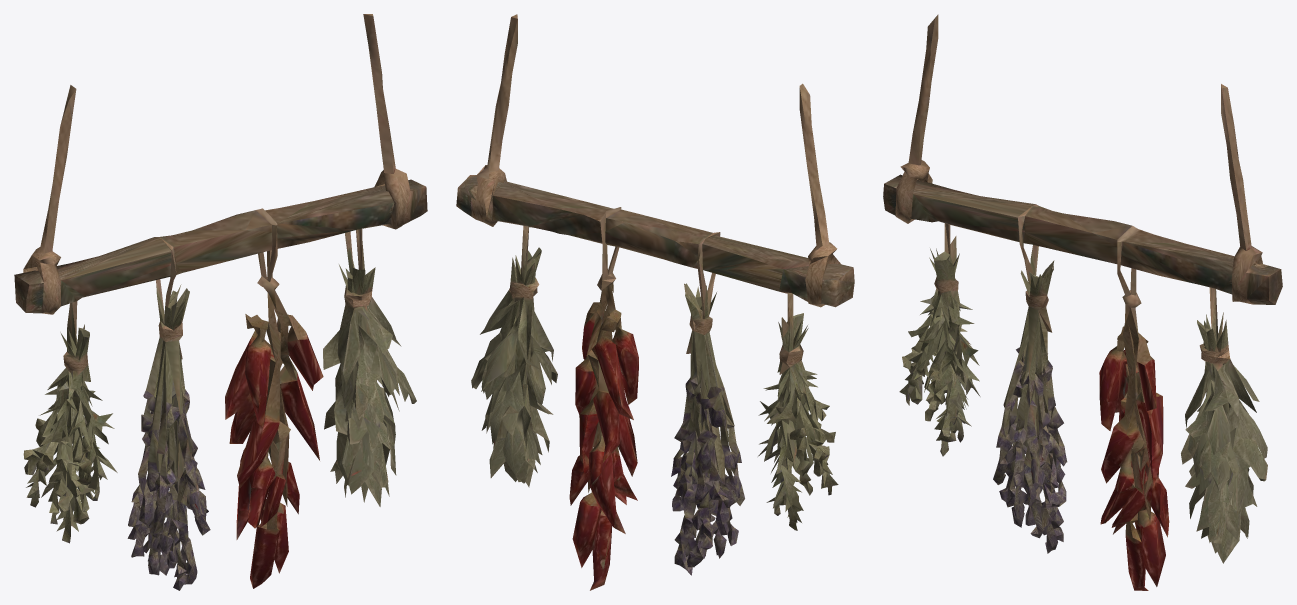
File: k_herbs_b.glb
3 renders of one model, left to right at view 1: azimuth 30°, elevation 25°; view 2: azimuth 150°, elevation 25°; view 3: azimuth 330°, elevation 25°, orthographic. The views are drawn at different scales.
Visible parts, largest first — view 1: k_herbs_b; view 2: k_herbs_b; view 3: k_herbs_b.
Boxes of the visible parts, <box> form: k_herbs_b: <box>14,14,427,590</box>; k_herbs_b: <box>456,14,854,590</box>; k_herbs_b: <box>883,14,1282,590</box>.
Size of the model in its own units: 0.4102 by 0.55 by 0.0771.
1 material, 1 textured.
